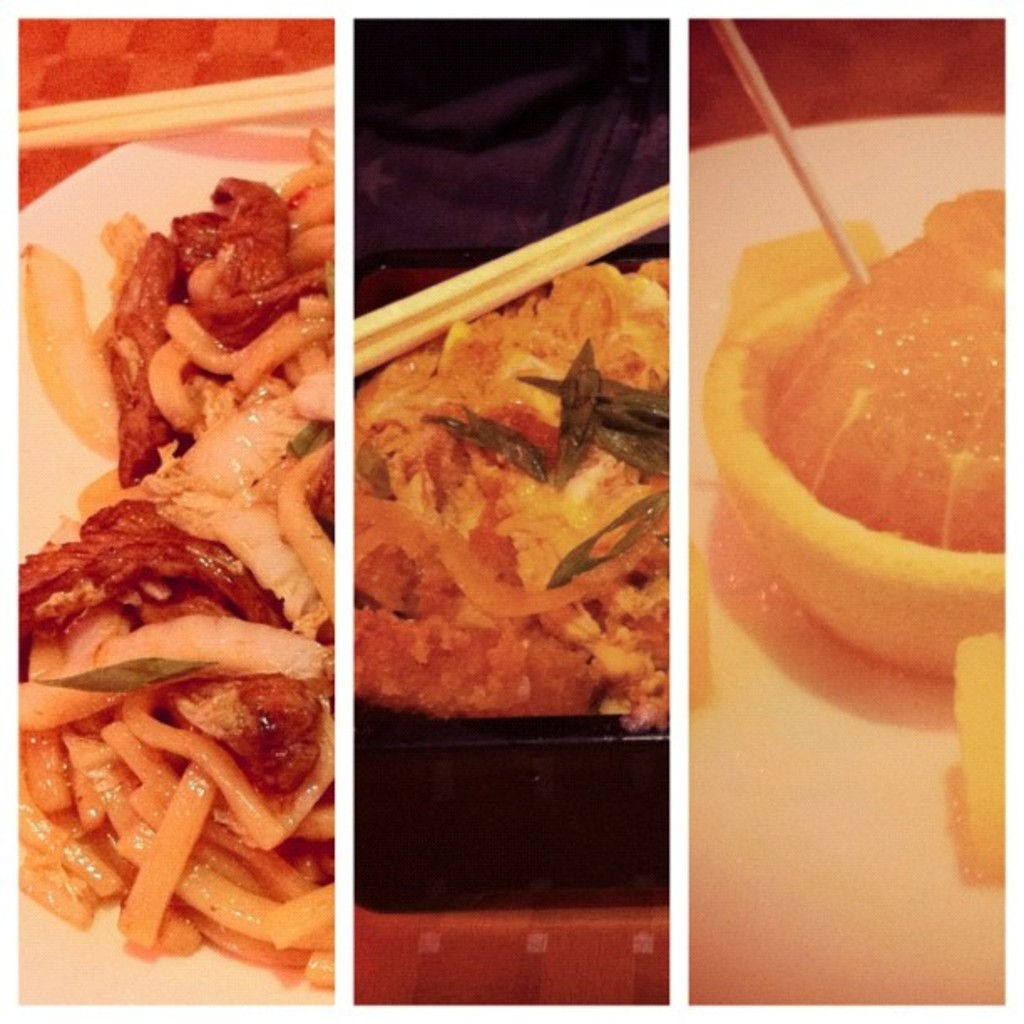French fries: (16, 122, 332, 716), (6, 702, 363, 962)
